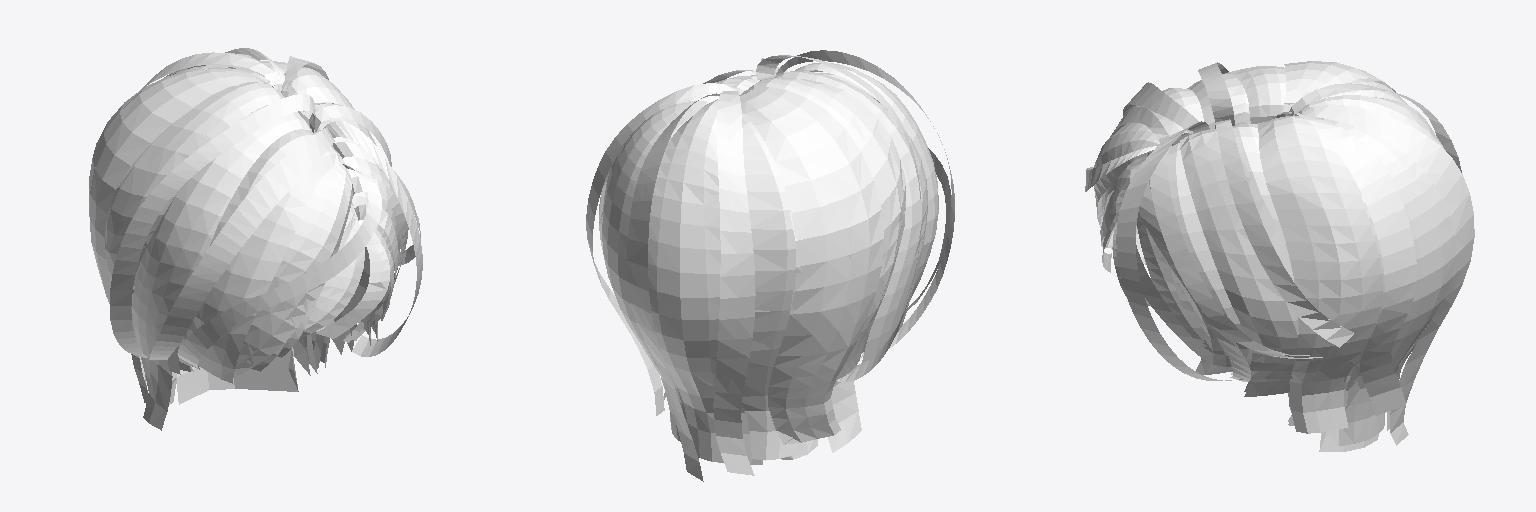
The model's file is blond_hairs.obj.
The picture shows the model from 3 angles: view 1: azimuth 30°, elevation 25°; view 2: azimuth 150°, elevation 25°; view 3: azimuth 270°, elevation 25°; orthographic projection.
Parts seen in each view (by area): view 1: Hair_Hair.002; view 2: Hair_Hair.002; view 3: Hair_Hair.002.
Boxes of the visible parts, box(x1,y1,x2,y2) form: Hair_Hair.002: box(89, 48, 422, 430); Hair_Hair.002: box(586, 50, 954, 481); Hair_Hair.002: box(1085, 61, 1474, 451).
Bounding box in the file's own units: 0.2172 × 0.2548 × 0.2516.